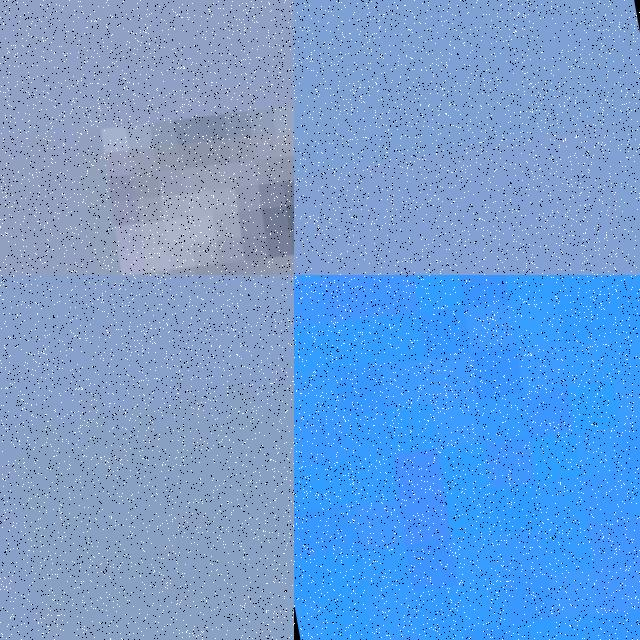drone: (294, 275, 640, 640), (0, 0, 294, 275)
